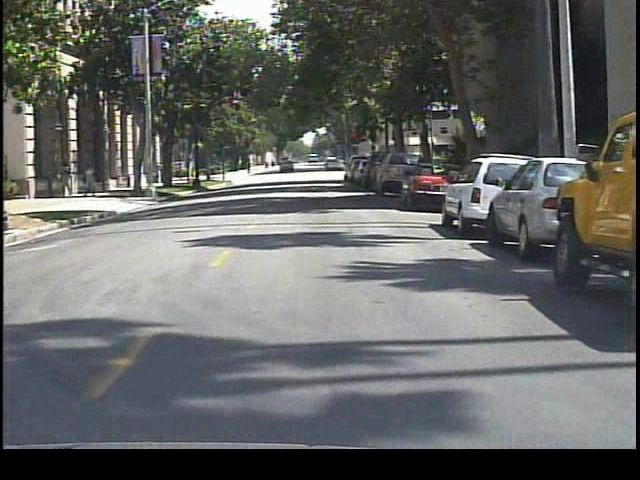person: (82, 160, 105, 199), (58, 156, 78, 198)
